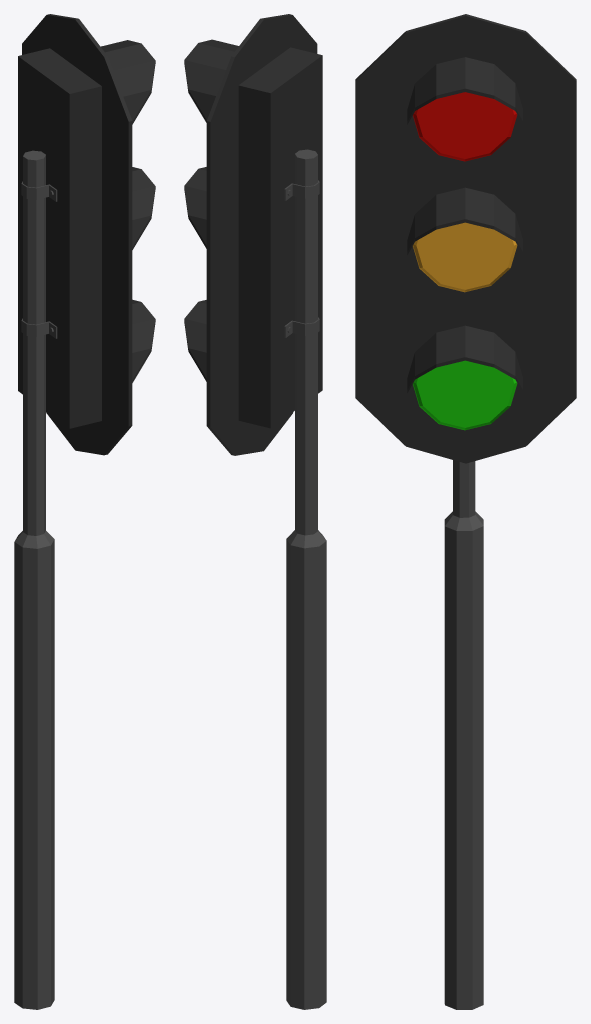
File: Traffic light.fbx
3 renders of one model, left to right at view 1: azimuth 30°, elevation 25°; view 2: azimuth 150°, elevation 25°; view 3: azimuth 270°, elevation 25°, orthographic. The views are drawn at different scales.
Parts seen in each view (by area): view 1: Base light, Pole???; view 2: Base light, Pole???; view 3: Base light, Pole???, Red.
Part boxes in pixels (<box>): Base light: <box>18,14,155,455</box>; Pole???: <box>14,150,57,1009</box>; Base light: <box>184,14,322,455</box>; Pole???: <box>284,149,326,1009</box>; Base light: <box>355,14,576,463</box>; Pole???: <box>444,460,483,1009</box>; Red: <box>413,92,517,430</box>.
Size of the model in its own units: 36.45 by 273 by 54.32.
